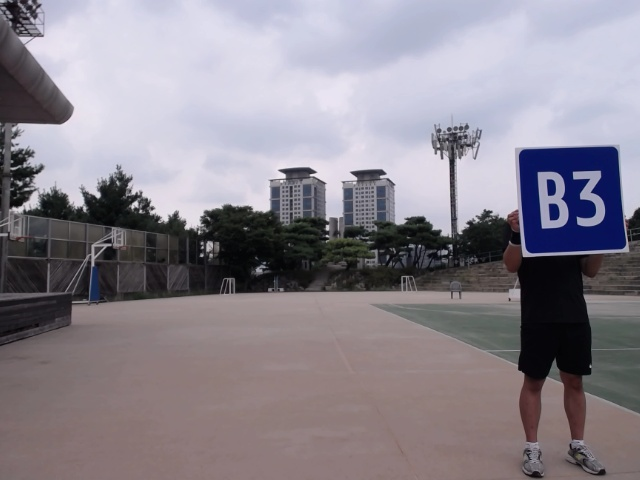delivery_b3: (513, 144, 632, 259)
